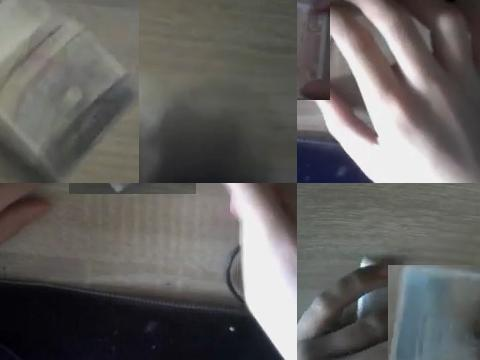20leva: (388, 265, 480, 360)
